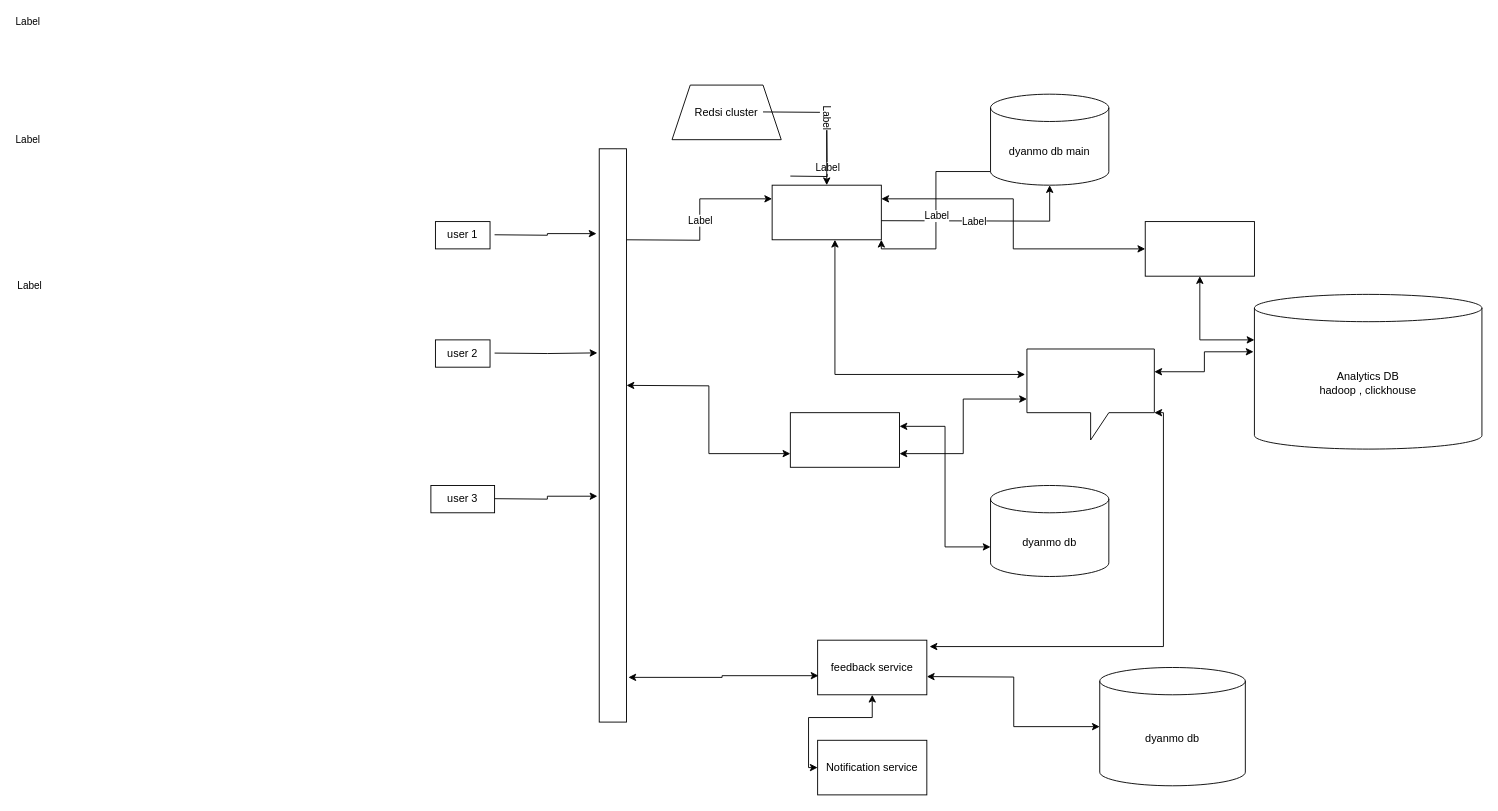
This 1498x811 diagram has some shape labels left out. The centre of each missing label's shape, as x and y in pixels:
A L B: point 612,435
call service: point 844,439
Kafka: point 1090,394
SPAM ENGINE: point 1199,248
user service: point 826,212
